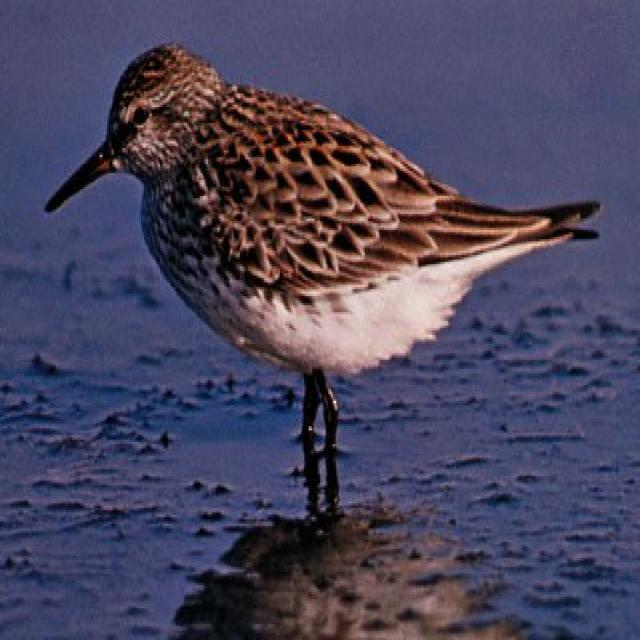Sandpiper: (41, 41, 598, 502)
